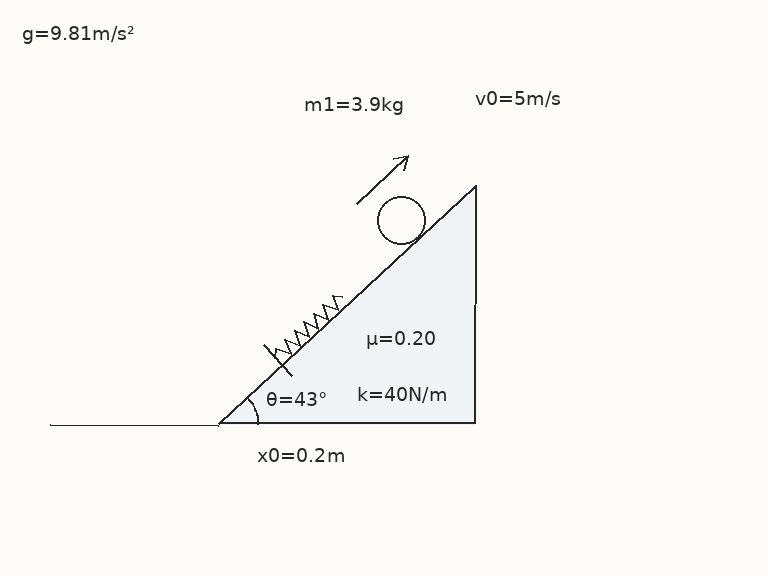ball: (375, 194, 427, 246)
ramp: (216, 183, 476, 426)
spring: (274, 293, 344, 360)
